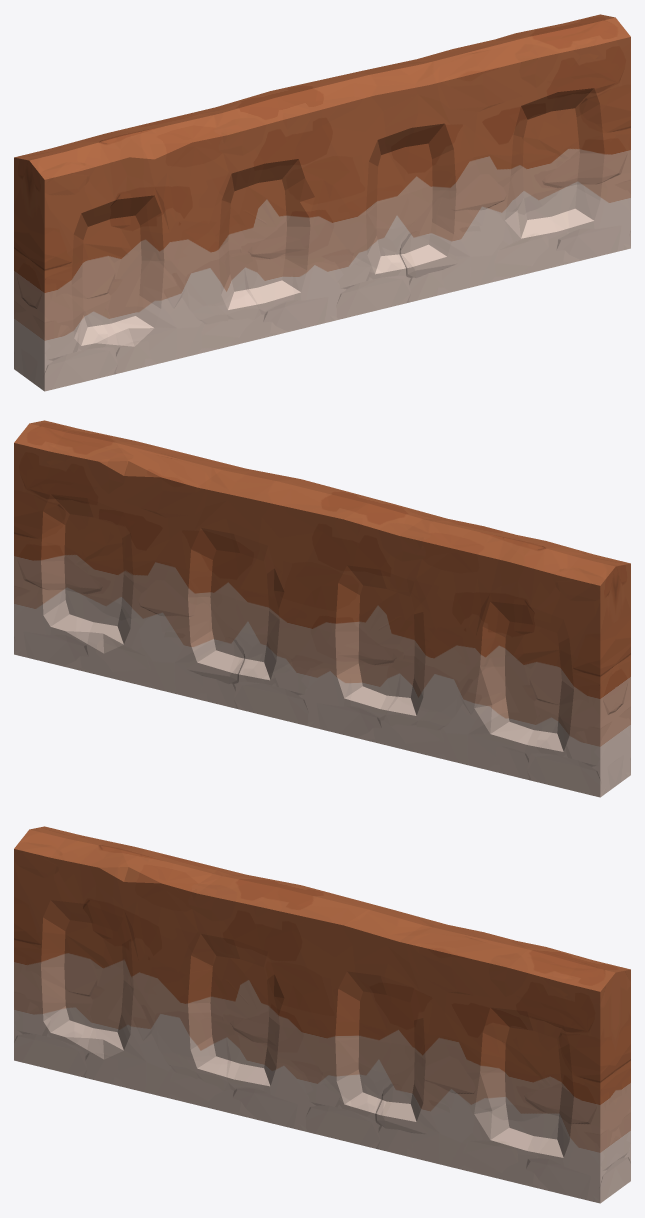
The model's file is SM_Bld_Wall_Balcony_02.fbx.
3 renders of one model, top to bottom at view 1: azimuth 30°, elevation 25°; view 2: azimuth 150°, elevation 25°; view 3: azimuth 330°, elevation 25°, orthographic.
Parts seen in each view (by area): view 1: SM_Bld_Wall_Balcony_02; view 2: SM_Bld_Wall_Balcony_02; view 3: SM_Bld_Wall_Balcony_02.
Part boxes in pixels (box(x1,y1,x2,y2)): SM_Bld_Wall_Balcony_02: box(14, 14, 630, 391); SM_Bld_Wall_Balcony_02: box(14, 420, 630, 797); SM_Bld_Wall_Balcony_02: box(14, 826, 630, 1203).
Size of the model in its own units: 250 by 90.66 by 22.63.
